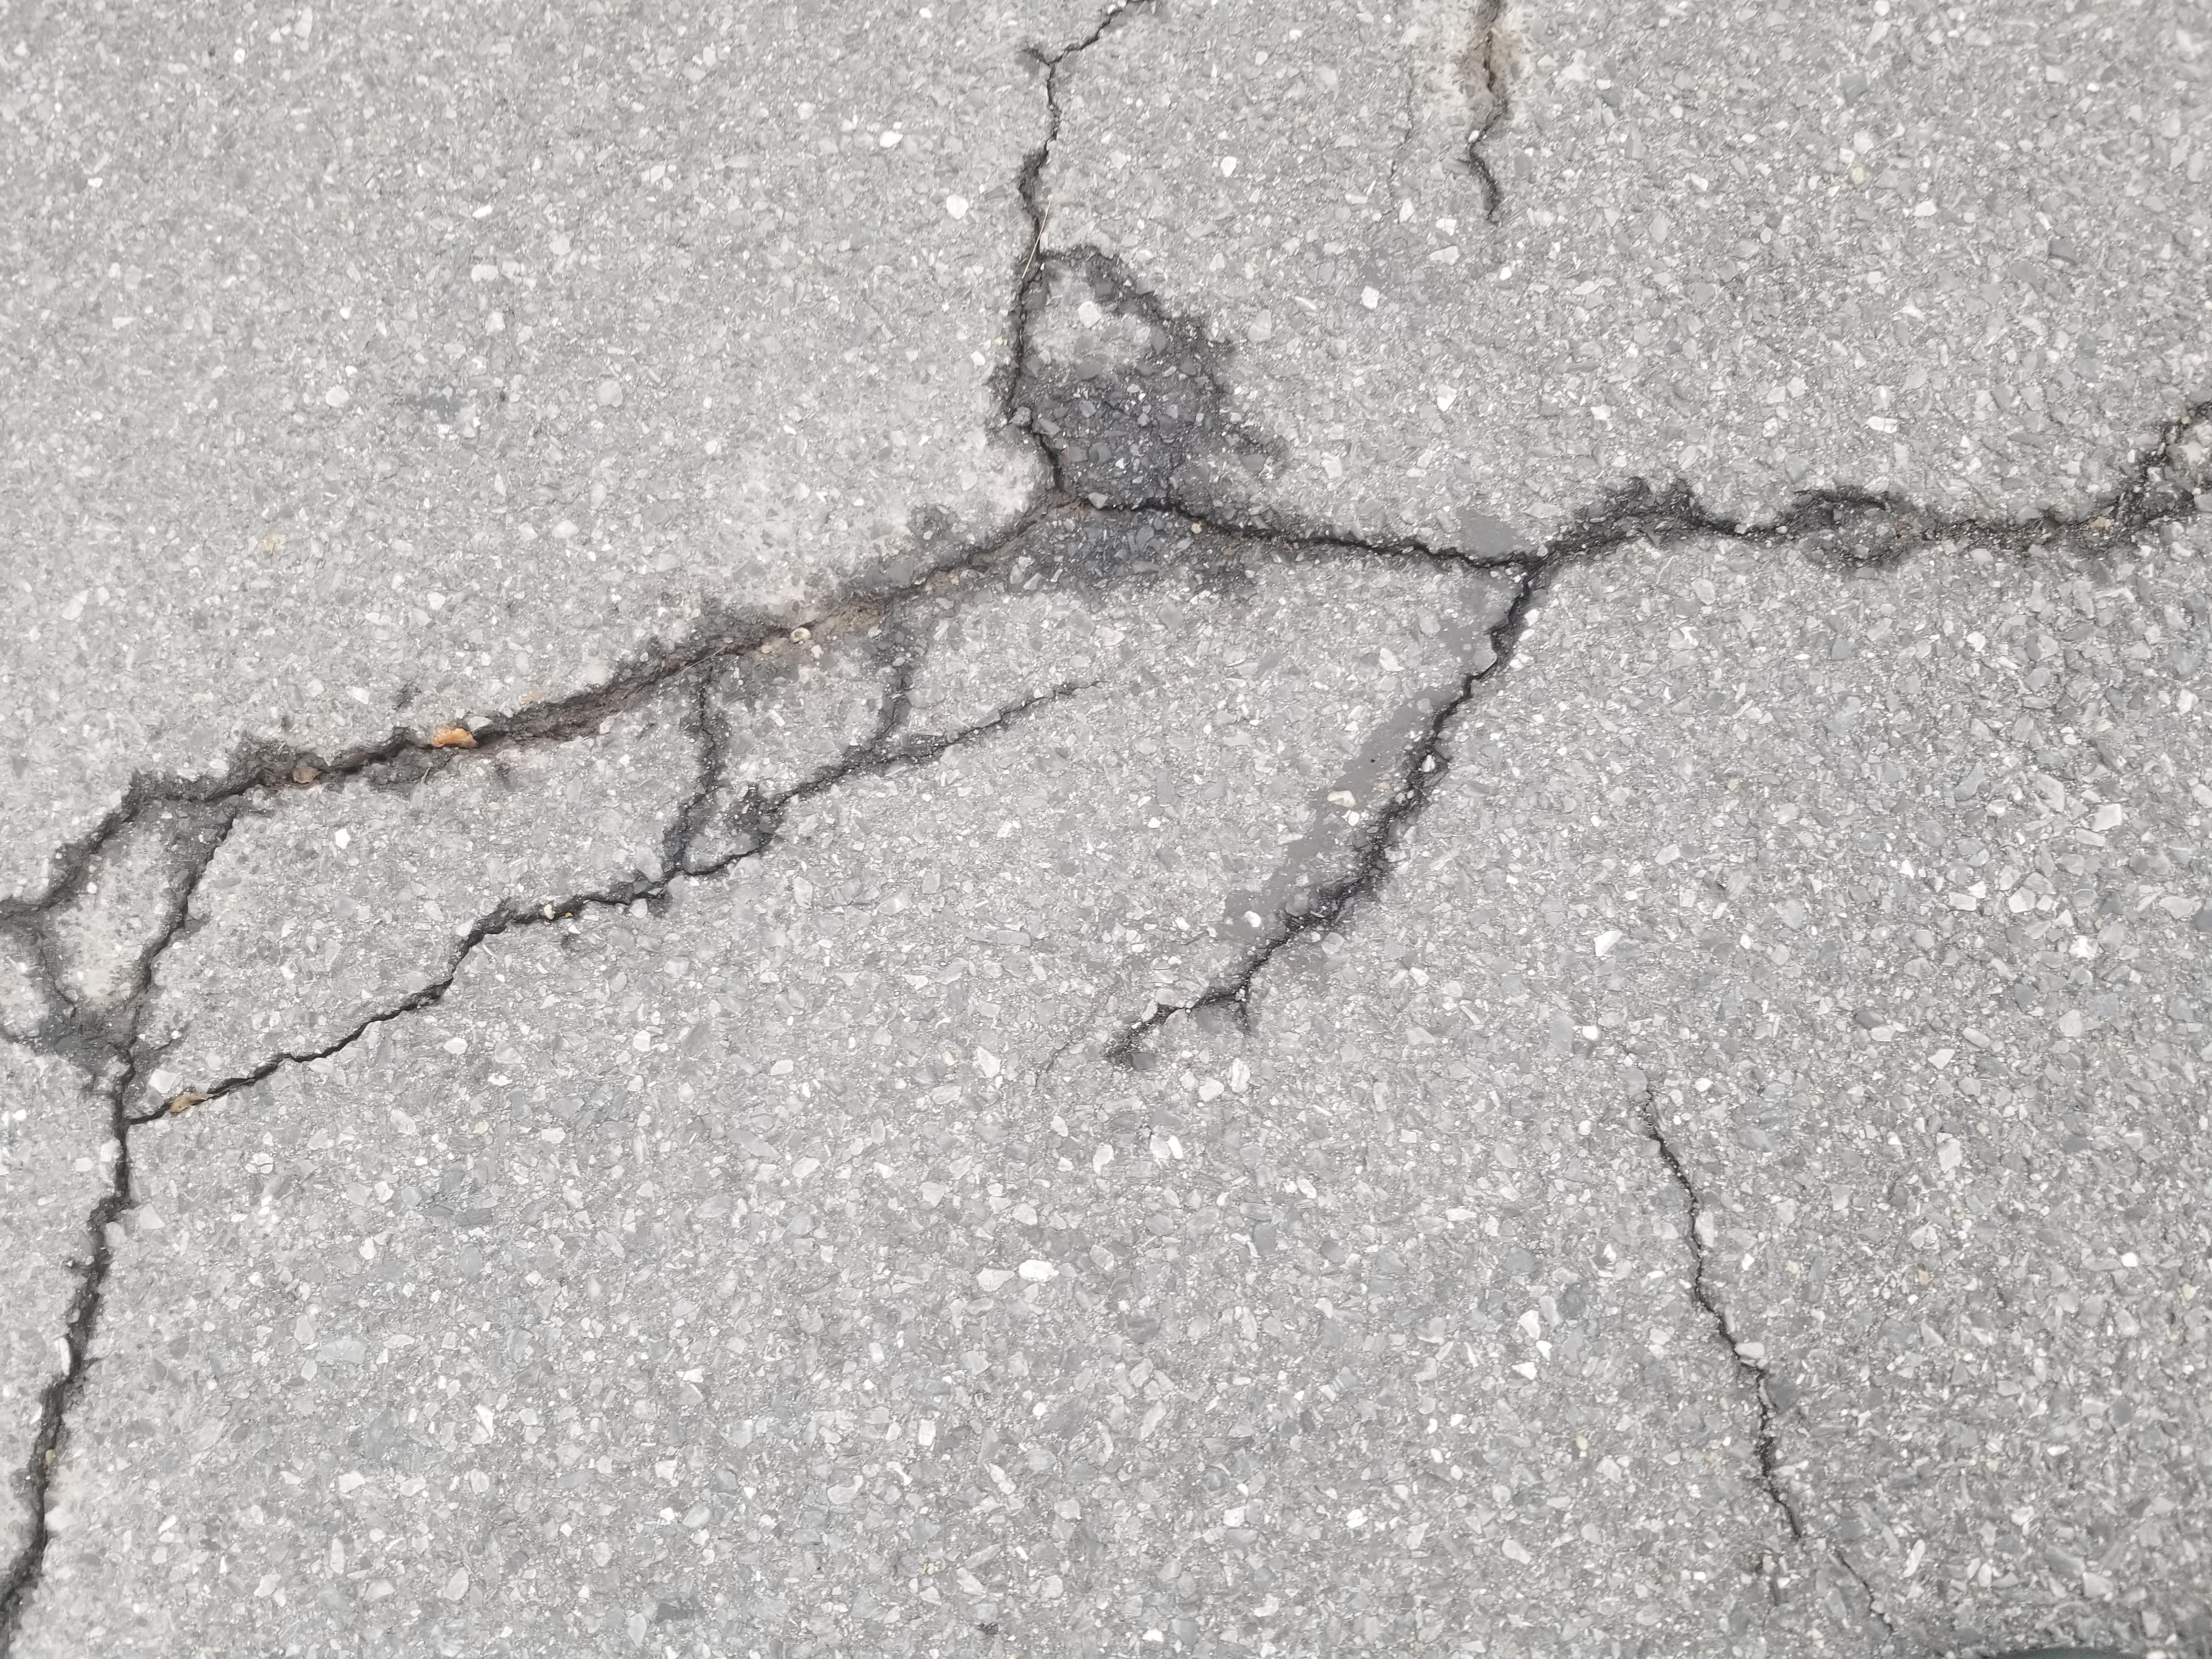crack: (1320, 1105, 1696, 1659), (3, 0, 775, 119), (153, 1229, 749, 1363), (1493, 742, 2212, 850), (1120, 195, 1317, 476), (775, 68, 1197, 192), (1310, 486, 1500, 748), (798, 831, 1047, 1007), (925, 328, 1094, 566), (1444, 842, 1576, 1119), (1017, 1014, 1317, 1108), (775, 193, 925, 343), (1902, 1091, 2212, 1152), (702, 113, 815, 197)
